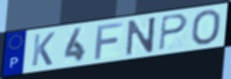4: (62, 26, 87, 64)
F: (93, 21, 125, 61)
K: (29, 31, 56, 68)
N: (124, 15, 158, 58)
O: (190, 8, 223, 47)
P: (157, 13, 189, 52)
